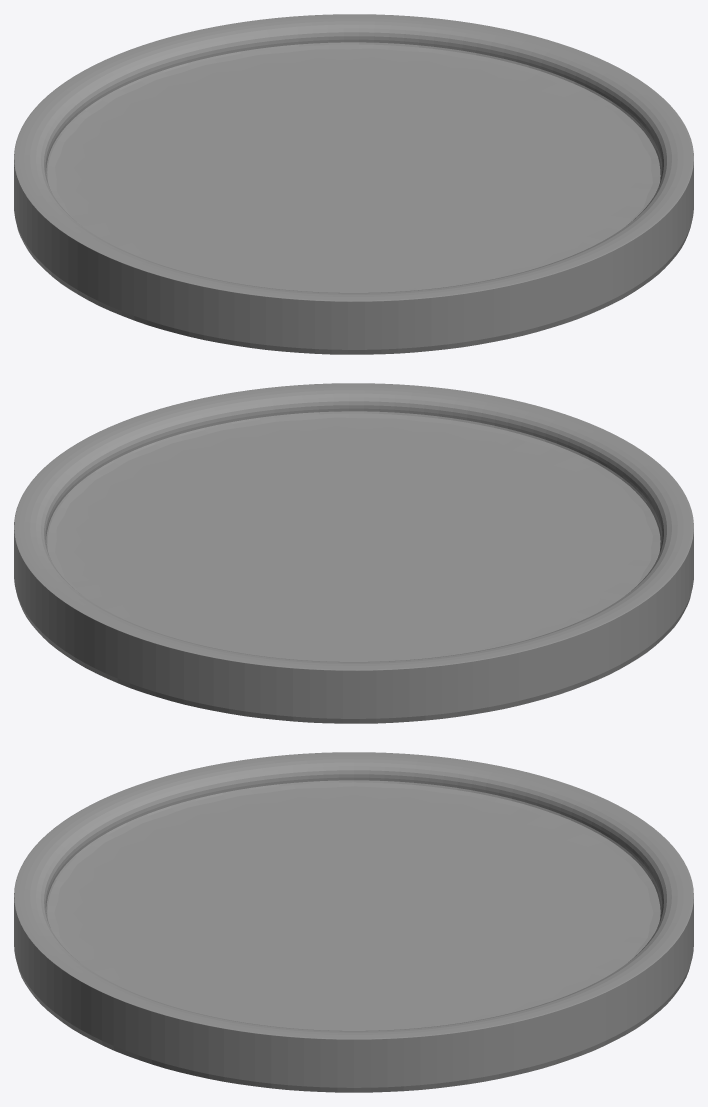
The model's file is coin.obj.
The picture shows the model from 3 angles, top to bottom: view 1: azimuth 30°, elevation 25°; view 2: azimuth 150°, elevation 25°; view 3: azimuth 270°, elevation 25°; orthographic projection.
Visible parts, largest first — view 1: 円柱; view 2: 円柱; view 3: 円柱.
Part boxes in pixels (x1=…): 円柱: x1=14, y1=14, x2=693, y2=354; 円柱: x1=14, y1=383, x2=693, y2=723; 円柱: x1=14, y1=752, x2=693, y2=1092.
Bounding box in the file's own units: 1.99 × 0.1865 × 1.99.
1 material, 1 textured.
